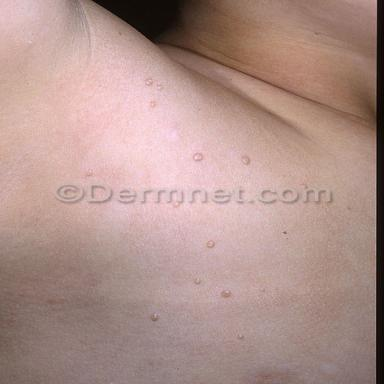Molluscum-Contagiosum: (220, 290, 232, 297), (193, 153, 203, 161), (242, 156, 250, 164), (151, 313, 159, 321), (145, 78, 153, 85), (194, 277, 201, 284), (207, 241, 215, 247), (86, 169, 92, 176), (150, 101, 156, 107), (156, 85, 163, 90), (237, 334, 244, 339)
